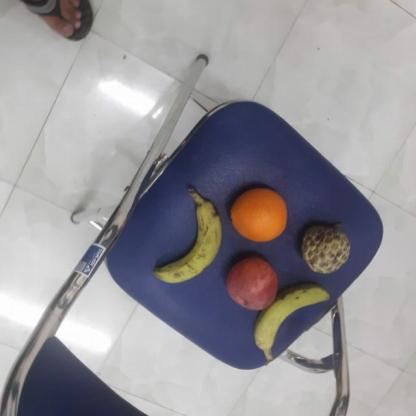annona: (300, 221, 352, 274)
apple: (223, 254, 282, 310)
banana: (151, 196, 225, 286), (253, 284, 332, 354)
orange: (229, 188, 288, 243)
